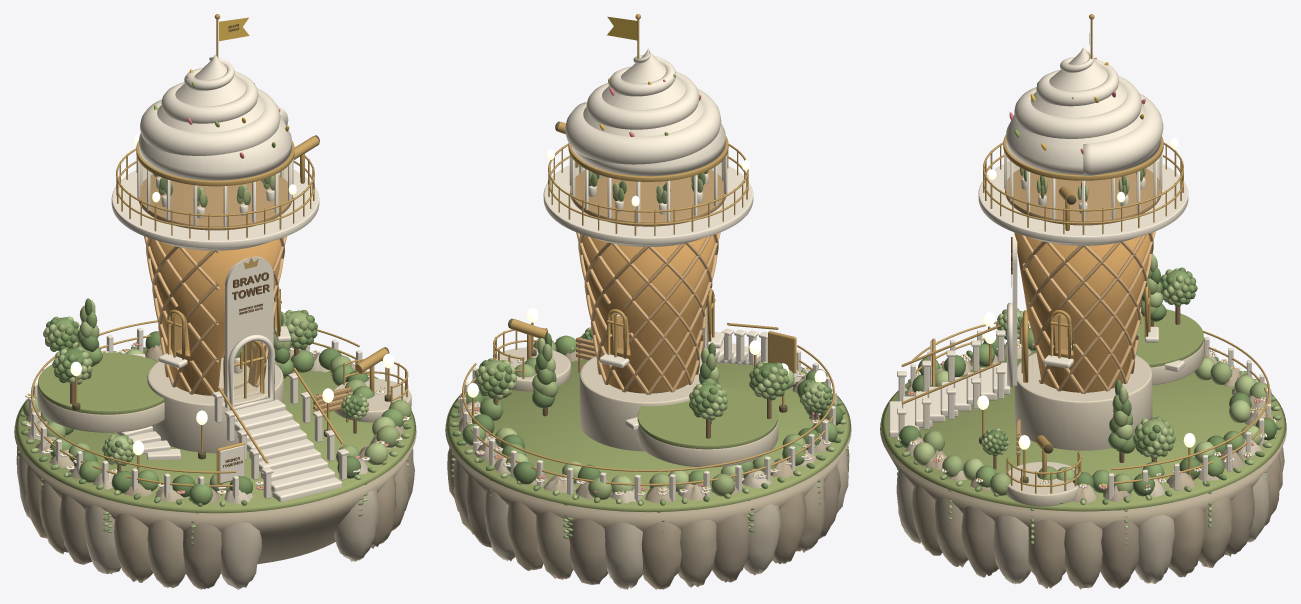
File: bravo-tower.glb
3 renders of one model, left to right at view 1: azimuth 30°, elevation 25°; view 2: azimuth 150°, elevation 25°; view 3: azimuth 270°, elevation 25°, orthographic.
Visible parts, largest first — view 1: Ivory porcelain • combined web mesh, Garden moss • combined web mesh, Cliff limestone 0 • combined web mesh, Soft brushed champagne gold • combined web mesh, Warm limestone paving • combined web mesh, Honey baked waffle • combined web mesh, Cliff limestone 2 • combined web mesh, Foliage 1 • combined web mesh, Honey oak bench • combined web mesh, Foliage 0 • combined web mesh, Cliff limestone 3 • combined web mesh, Cliff limestone 1 • combined web mesh (+8 smaller); view 2: Ivory porcelain • combined web mesh, Garden moss • combined web mesh, Cliff limestone 0 • combined web mesh, Honey baked waffle • combined web mesh, Soft brushed champagne gold • combined web mesh, Warm limestone paving • combined web mesh, Raised golden waffle lattice • combined web mesh, Cliff limestone 1 • combined web mesh, Cliff limestone 2 • combined web mesh, Cliff limestone 3 • combined web mesh, Foliage 0 • combined web mesh, Honey oak bench • combined web mesh (+7 smaller); view 3: Ivory porcelain • combined web mesh, Garden moss • combined web mesh, Cliff limestone 0 • combined web mesh, Honey baked waffle • combined web mesh, Warm limestone paving • combined web mesh, Soft brushed champagne gold • combined web mesh, Cliff limestone 2 • combined web mesh, Cliff limestone 3 • combined web mesh, Cliff limestone 1 • combined web mesh, Raised golden waffle lattice • combined web mesh, Foliage 0 • combined web mesh, Honey oak bench • combined web mesh (+6 smaller).
Part boxes in pixels (x1,y1,x2,y2): Ivory porcelain • combined web mesh: (28, 54, 362, 501); Garden moss • combined web mesh: (15, 347, 415, 513); Cliff limestone 0 • combined web mesh: (14, 348, 416, 587); Soft brushed champagne gold • combined web mesh: (31, 14, 408, 495); Warm limestone paving • combined web mesh: (37, 358, 411, 453); Honey baked waffle • combined web mesh: (147, 238, 283, 395); Cliff limestone 2 • combined web mesh: (17, 352, 413, 589); Foliage 1 • combined web mesh: (23, 173, 411, 532); Honey oak bench • combined web mesh: (138, 174, 351, 412); Foliage 0 • combined web mesh: (17, 177, 408, 544); Cliff limestone 3 • combined web mesh: (25, 345, 396, 582); Cliff limestone 1 • combined web mesh: (16, 363, 414, 589); Ivory porcelain • combined web mesh: (459, 48, 836, 501); Garden moss • combined web mesh: (446, 359, 850, 512); Cliff limestone 0 • combined web mesh: (445, 424, 851, 587); Honey baked waffle • combined web mesh: (580, 234, 716, 393); Soft brushed champagne gold • combined web mesh: (462, 14, 834, 485); Warm limestone paving • combined web mesh: (496, 347, 778, 467); Raised golden waffle lattice • combined web mesh: (576, 232, 720, 394); Cliff limestone 1 • combined web mesh: (465, 350, 840, 584); Cliff limestone 2 • combined web mesh: (449, 350, 848, 589); Cliff limestone 3 • combined web mesh: (447, 361, 849, 589); Foliage 0 • combined web mesh: (452, 172, 848, 536); Honey oak bench • combined web mesh: (570, 169, 725, 359); Ivory porcelain • combined web mesh: (889, 47, 1271, 500); Garden moss • combined web mesh: (880, 309, 1286, 511); Cliff limestone 0 • combined web mesh: (880, 356, 1286, 589); Honey baked waffle • combined web mesh: (1014, 232, 1151, 392); Warm limestone paving • combined web mesh: (1006, 337, 1204, 506); Soft brushed champagne gold • combined web mesh: (901, 14, 1270, 493); Cliff limestone 2 • combined web mesh: (896, 341, 1269, 584); Cliff limestone 3 • combined web mesh: (912, 354, 1280, 588); Cliff limestone 1 • combined web mesh: (930, 368, 1265, 588); Raised golden waffle lattice • combined web mesh: (1021, 231, 1155, 393); Foliage 0 • combined web mesh: (895, 170, 1279, 539); Honey oak bench • combined web mesh: (1005, 168, 1161, 455).
Bounding box in the file's own units: 6.9 × 9.95 × 6.9.
